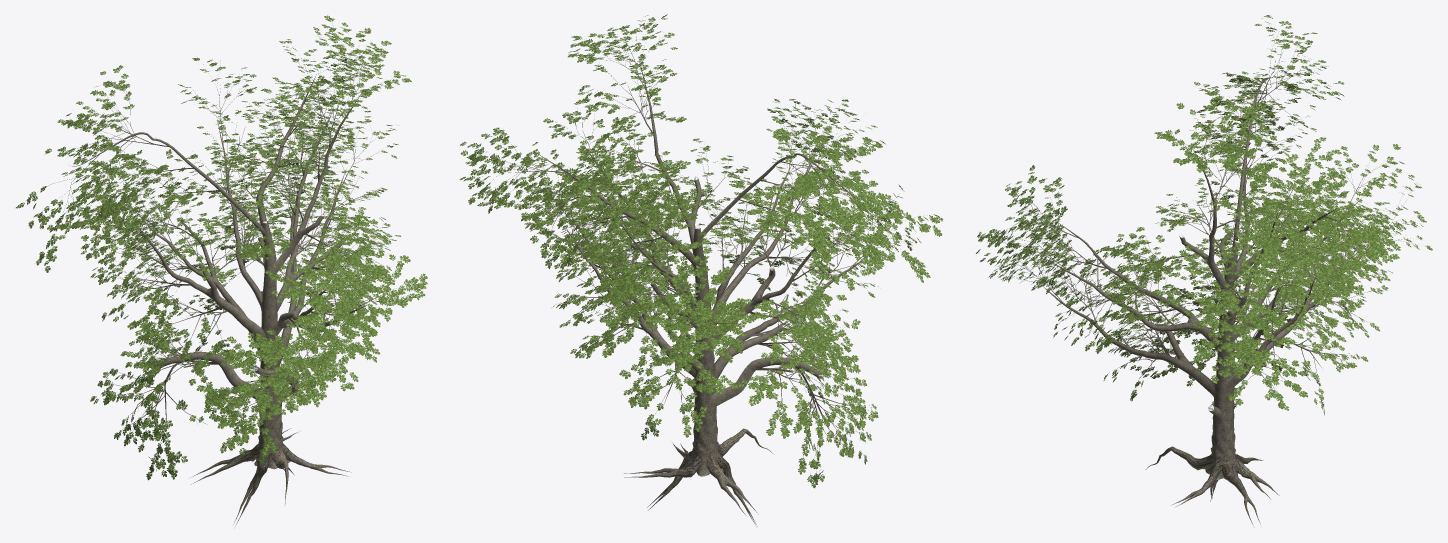
File: Tree-3d-free.fbx
The picture shows the model from 3 angles, left to right: view 1: azimuth 30°, elevation 25°; view 2: azimuth 150°, elevation 25°; view 3: azimuth 270°, elevation 25°; orthographic projection. The views are drawn at different scales.
Parts seen in each view (by area): view 1: New_SpeedTree; view 2: New_SpeedTree; view 3: New_SpeedTree.
Part boxes in pixels (left/top/right/bottom): New_SpeedTree: left=16, top=15, right=427, bottom=526; New_SpeedTree: left=459, top=14, right=942, bottom=526; New_SpeedTree: left=976, top=15, right=1432, bottom=525.
Bounding box in the file's own units: 56.78 × 63.5 × 56.88.
3 materials, 2 textured.
